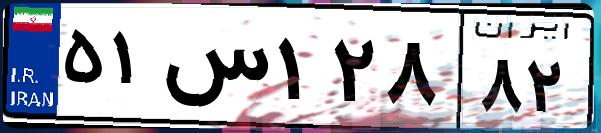1: (270, 28, 330, 110), (110, 28, 158, 98)
2: (330, 28, 385, 110), (525, 38, 570, 115)
5: (57, 26, 110, 100)
8: (385, 28, 445, 110), (475, 38, 525, 113)
س: (158, 20, 270, 120)
